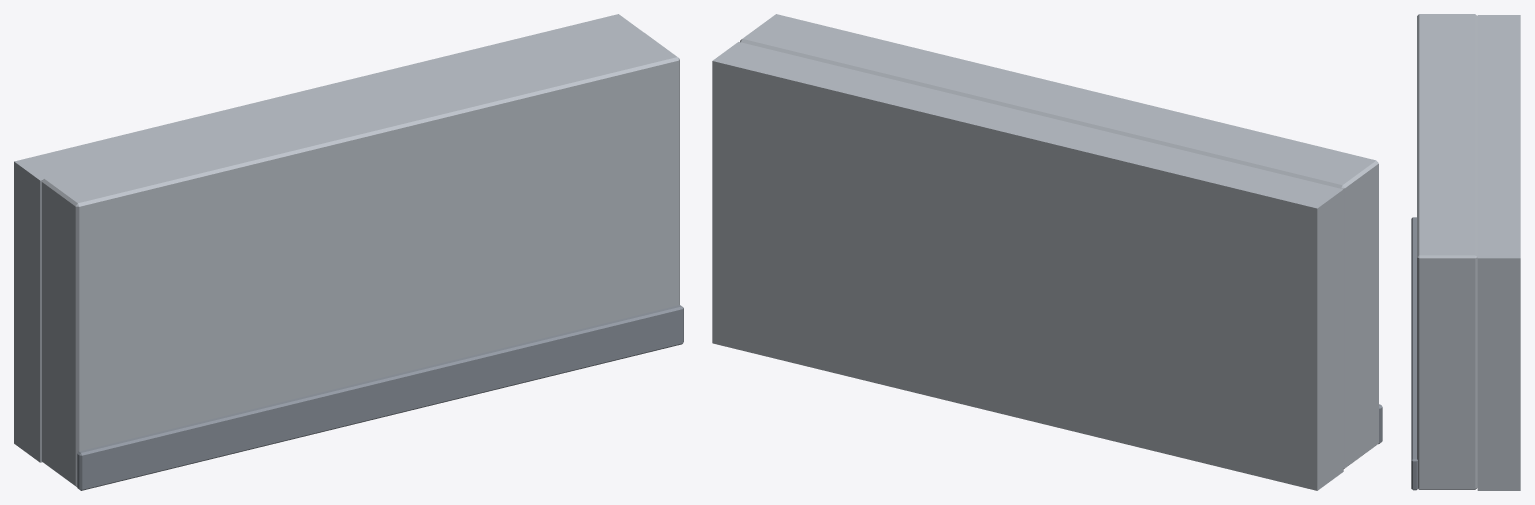
File: soco_h45_1m.glb
The picture shows the model from 3 angles, left to right: view 1: azimuth 30°, elevation 25°; view 2: azimuth 150°, elevation 25°; view 3: azimuth 270°, elevation 25°; orthographic projection. The views are drawn at different scales.
Visible parts, largest first — view 1: soco_h45_1m; view 2: soco_h45_1m; view 3: soco_h45_1m.
Boxes of the visible parts, x1=… form: soco_h45_1m: x1=14, y1=14, x2=683, y2=490; soco_h45_1m: x1=712, y1=14, x2=1382, y2=490; soco_h45_1m: x1=1411, y1=14, x2=1520, y2=490.
Size of the model in its own units: 1 by 0.45 by 0.19.
Materials: 1 (1 with a texture image).
